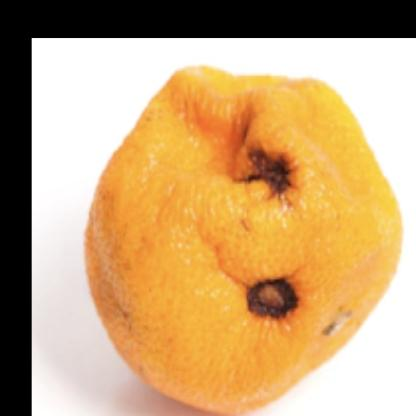rotten: (85, 65, 403, 416)
